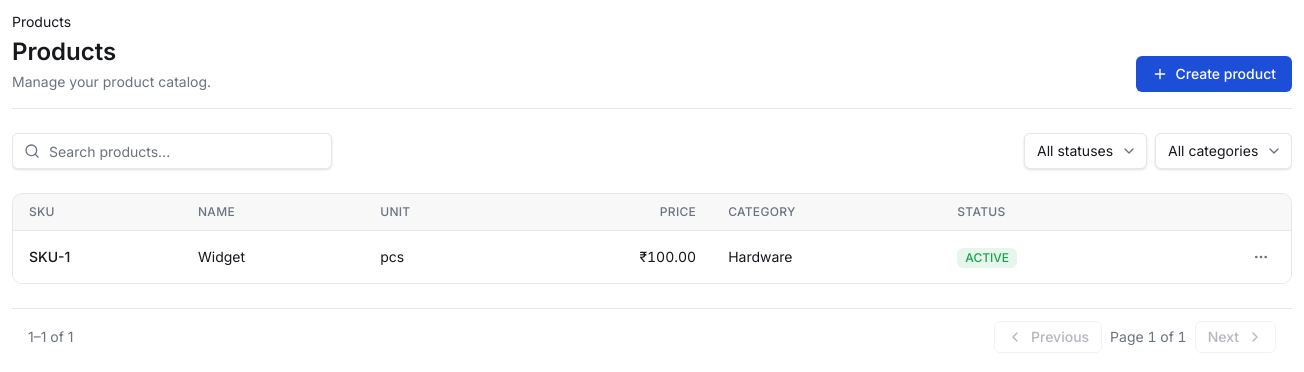
ProductsListPage › RBAC visibility › SALES sees Create and Edit, but not Deactivate
Expected: the text "Widget" is shown, [182,231,364,283]
Expected: the button "Create product" is shown, [1136,56,1292,92]
Click the button named "Actions for Widget" at (1261, 257), box [1247,243,1275,271]
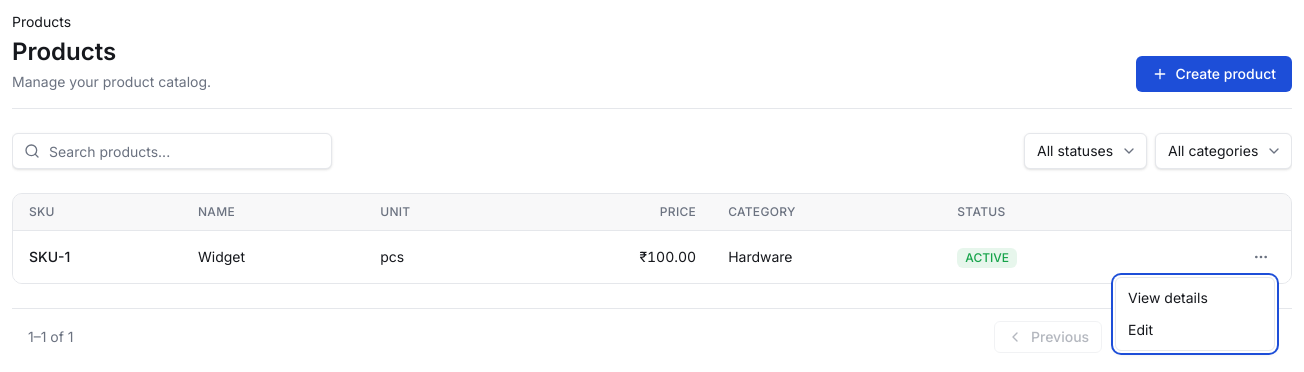
Expected: the menu item "Edit" is shown, [1128,321,1153,338]
